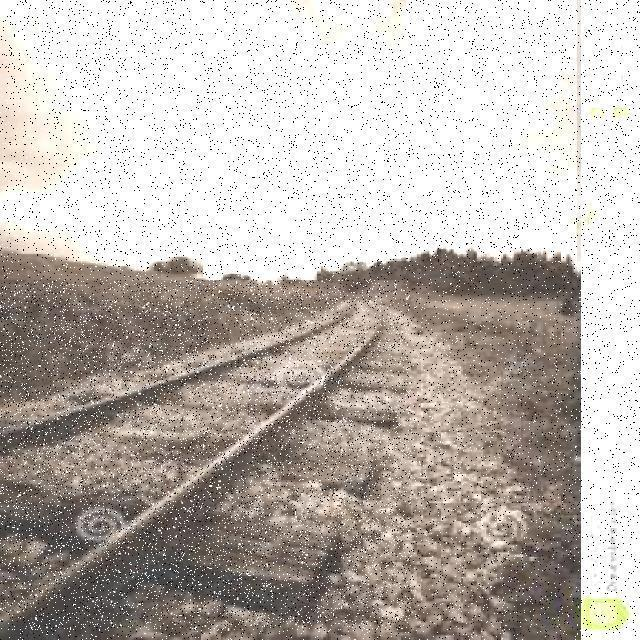rail: (2, 282, 412, 631)
